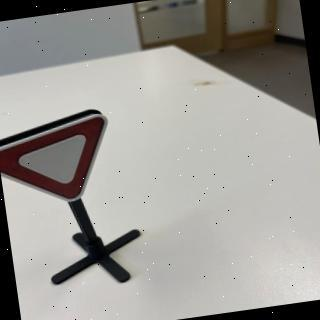duck_specialty: (1, 108, 124, 211)
sign_yield: (1, 108, 124, 213)
